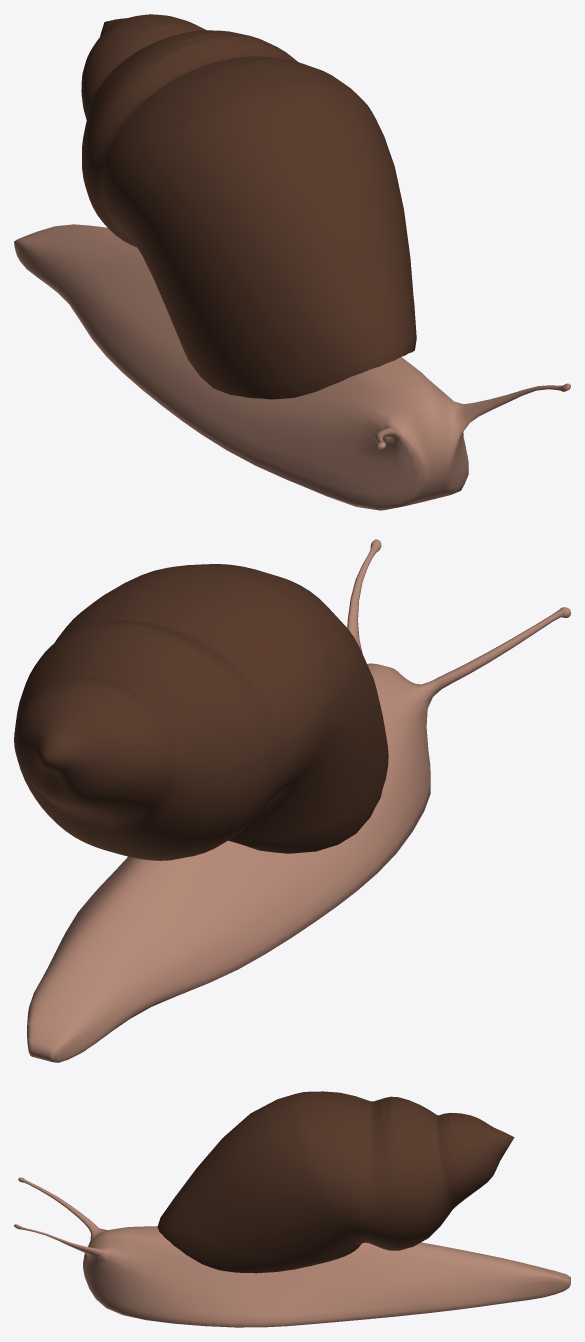
File: snail 1.fbx
3 renders of one model, top to bottom at view 1: azimuth 30°, elevation 25°; view 2: azimuth 150°, elevation 25°; view 3: azimuth 270°, elevation 25°, orthographic. The views are drawn at different scales.
Parts seen in each view (by area): view 1: shell, snail; view 2: shell, snail; view 3: shell, snail.
Part boxes in pixels (<box>): shell: <box>81,14,416,399</box>; snail: <box>14,224,570,510</box>; shell: <box>14,564,388,860</box>; snail: <box>27,539,570,1062</box>; shell: <box>157,1091,514,1273</box>; snail: <box>14,1177,570,1327</box>.
Size of the model in its own units: 140 by 164 by 420.
